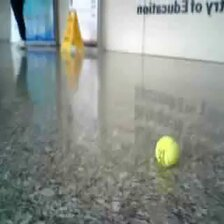tennis: (154, 135, 180, 167)
